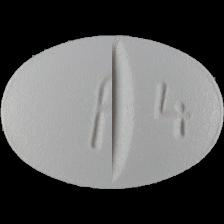68084-617: (0, 0, 224, 224)
